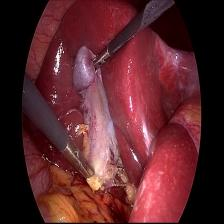Grasper: (70, 137, 98, 189), (85, 44, 111, 76)
